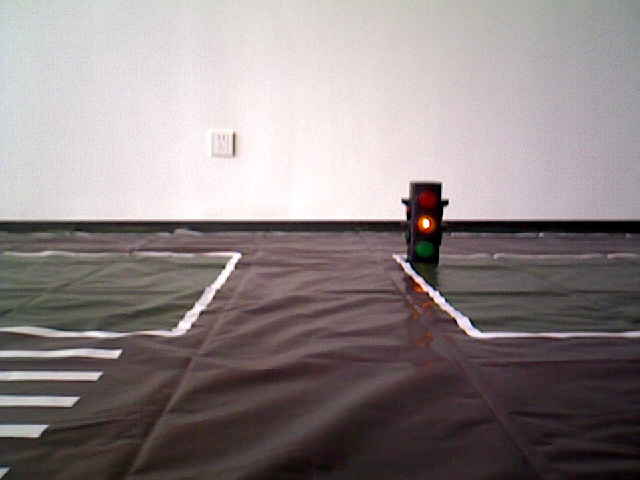yellow: (405, 179, 445, 262)
